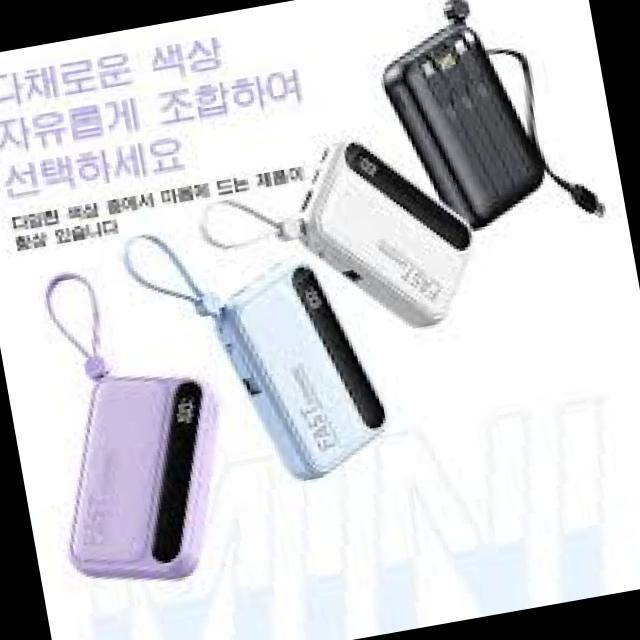portable-charger: (38, 351, 252, 604), (206, 239, 401, 493), (289, 114, 486, 344), (374, 14, 558, 243)
